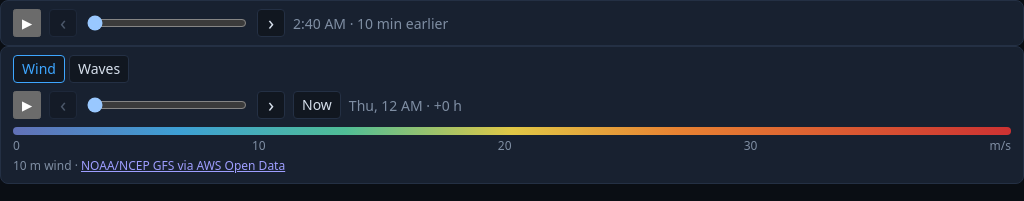
Test: WindControl › hands playback over when another control starts playing
This screenshot has width=1024, height=201.
Click the button named "Play wind loop" at (27,105), box [13,91,41,119]
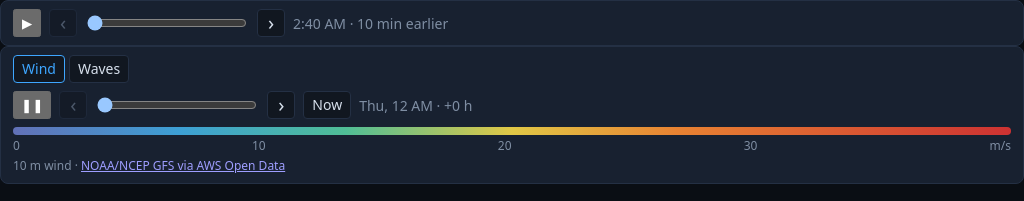
Result: the button named "Pause wind loop" is shown at [13,91,51,119]
Click the button named "Play radar loop" at (27,23), box [13,9,41,37]
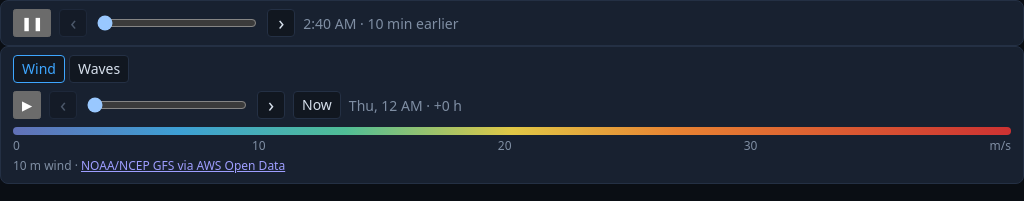
Result: the button named "Pause radar loop" is shown at [13,9,51,37]
Result: the button named "Play wind loop" is shown at [13,91,41,119]
